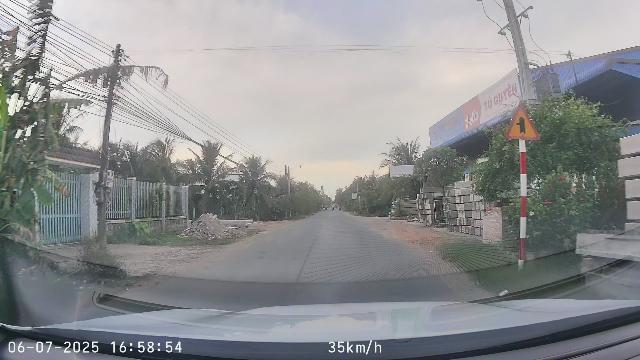207-giao-nhau-voi-duong-khong-uu-tien: (506, 104, 539, 140)
